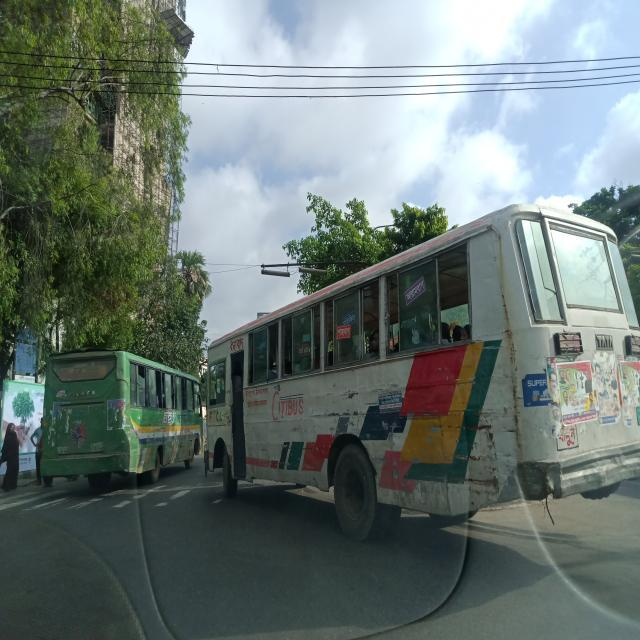bus: (206, 203, 640, 545), (38, 346, 204, 491)
